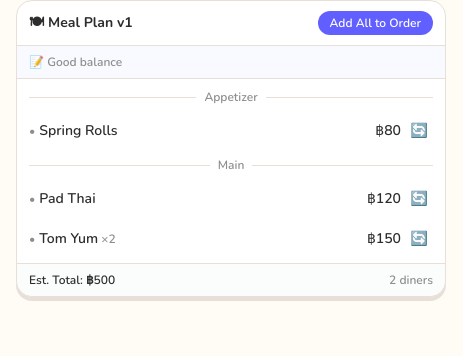
Test: MealPlanCard › expand/collapse: click dish row → shows nameOriginal and reason
Click on the Spring Rolls row
Step 1. Click the text "Spring Rolls" → [78, 130], box x1=39 y1=121 x2=118 y2=140
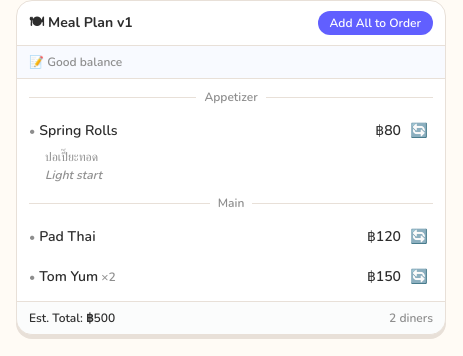
Now the text "ปอเปี๊ยะทอด" is shown, box x1=45 y1=149 x2=98 y2=165
Now the text "Light start" is shown, box x1=45 y1=167 x2=102 y2=183
